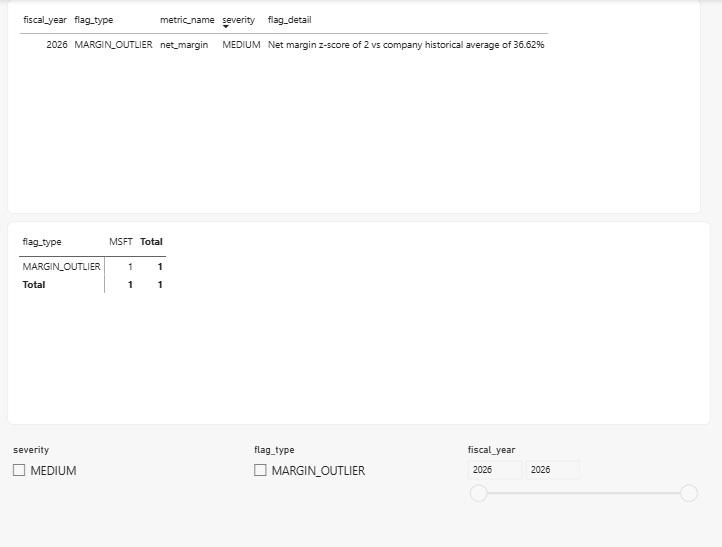

What the dashboard file says about the page in this screenshot:
{"tool":"powerbi","page":{"name":"Anomaly Review","canvas":[1920,1080],"ordinal":2},"visuals":[{"type":"tableEx","fields":{"Values":["investment_diligence anomaly_flags.fiscal_year","investment_diligence anomaly_flags.flag_type","investment_diligence anomaly_flags.metric_name","investment_diligence anomaly_flags.severity","investment_diligence anomaly_flags.flag_detail"]},"box":[10,0,1004,311],"z":0},{"type":"pivotTable","fields":{"Columns":["investment_diligence companies.ticker"],"Rows":["investment_diligence anomaly_flags.flag_type"],"Values":["investment_diligence anomaly_flags.Total Anomaly Flags"]},"box":[10,322.2,1017.8,294.4],"z":1},{"type":"slicer","fields":{"Values":["investment_diligence anomaly_flags.severity"]},"box":[10,644,350,302],"z":2},{"type":"slicer","fields":{"Values":["investment_diligence anomaly_flags.flag_type"]},"box":[360,644,310,302],"z":3},{"type":"slicer","fields":{"Values":["investment_diligence anomaly_flags.fiscal_year"]},"box":[670,644,344,302],"z":4}]}

Visuals, with their boxes on the page's 1920x1080 design canvas (x1, y1, x2, y2). These are canvas units, not pixel positions in the 722x547 screenshot, which may show the page scaled, cropped or inside an application window:
tableEx - investment_diligence anomaly_flags.fiscal_year x investment_diligence anomaly_flags.flag_type: (10,0,1014,311)
pivotTable - investment_diligence companies.ticker x investment_diligence anomaly_flags.flag_type: (10,322,1028,617)
slicer - investment_diligence anomaly_flags.severity: (10,644,360,946)
slicer - investment_diligence anomaly_flags.flag_type: (360,644,670,946)
slicer - investment_diligence anomaly_flags.fiscal_year: (670,644,1014,946)
